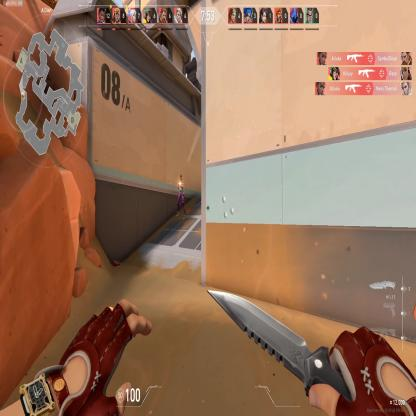enemy: (175, 173, 186, 217)
